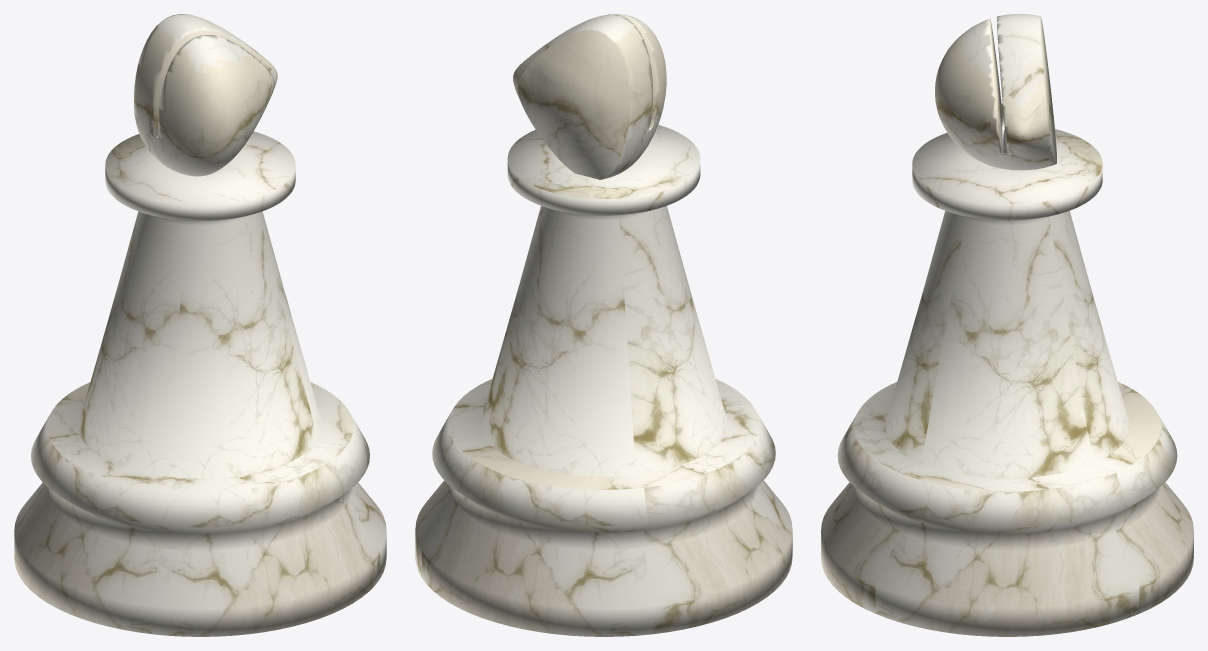
The model's file is outlining.gltf.
3 views of the same model, side by side, from view 1: azimuth 30°, elevation 25°; view 2: azimuth 150°, elevation 25°; view 3: azimuth 270°, elevation 25° (orthographic).
Visible parts, largest first — view 1: BishopWhite1; view 2: BishopWhite1; view 3: BishopWhite1.
Part boxes in pixels (x1=…): BishopWhite1: x1=14, y1=14, x2=386, y2=636; BishopWhite1: x1=415, y1=14, x2=792, y2=636; BishopWhite1: x1=821, y1=14, x2=1193, y2=636.
Bounding box in the file's own units: 0.0218 × 0.0346 × 0.0218.
1 material, 1 textured.
